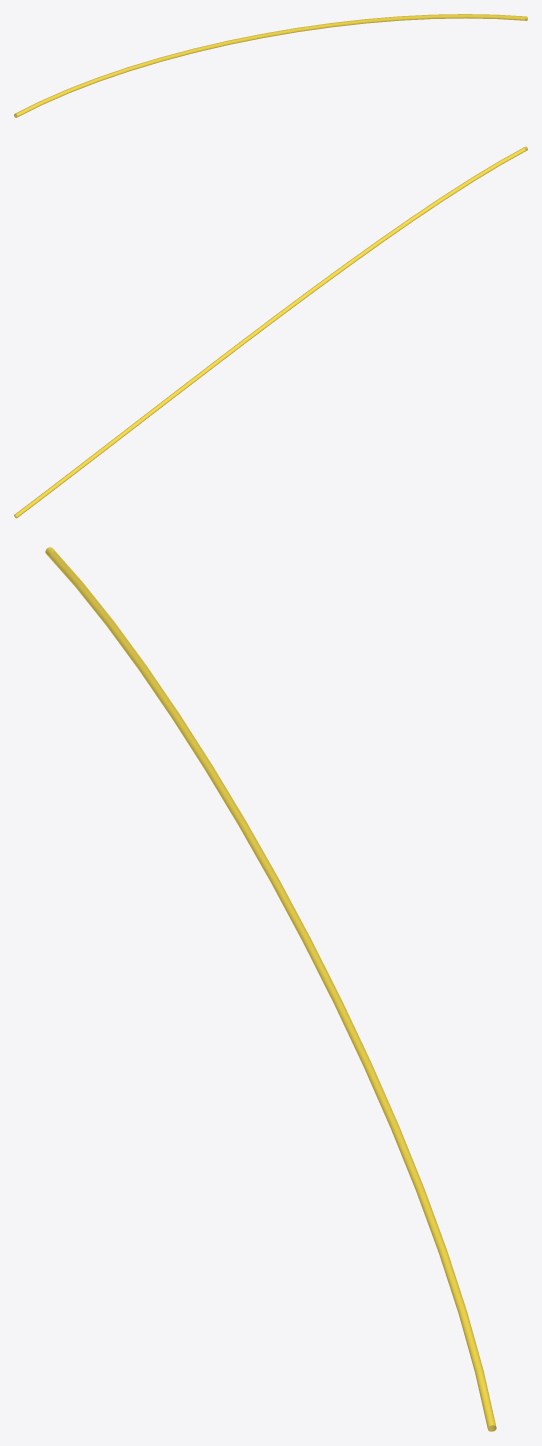
Rendered from Event_419990632_track_21.fbx.
The picture shows the model from 3 angles, top to bottom: view 1: azimuth 30°, elevation 25°; view 2: azimuth 210°, elevation 25°; view 3: azimuth 270°, elevation 25°; orthographic projection. The views are drawn at different scales.
Parts seen in each view (by area): view 1: Model; view 2: Model; view 3: Model.
Boxes of the visible parts, bbox=[...] form: Model: bbox=[14, 14, 527, 117]; Model: bbox=[14, 146, 527, 518]; Model: bbox=[45, 547, 496, 1431].
Size of the model in its own units: 6.45 by 1.38 by 2.02.
